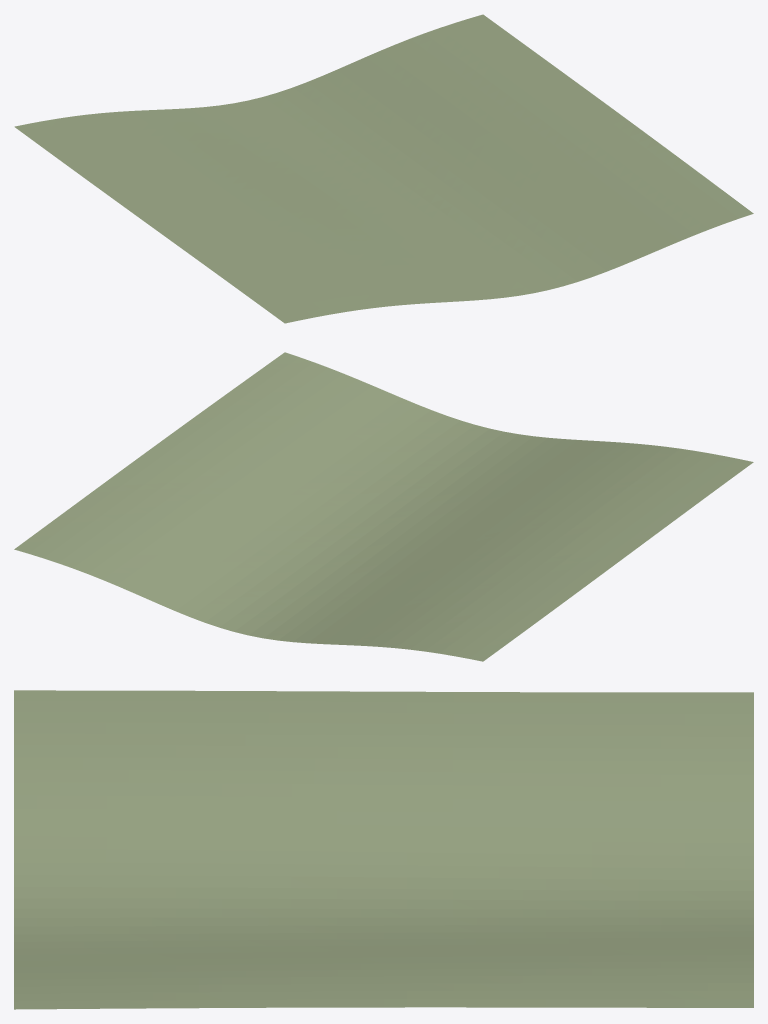
File: desert-13-7.glb
3 views of the same model, one above another, from view 1: azimuth 30°, elevation 25°; view 2: azimuth 150°, elevation 25°; view 3: azimuth 270°, elevation 25° (orthographic). The views are drawn at different scales.
Parts seen in each view (by area): view 1: desert-13-7; view 2: desert-13-7; view 3: desert-13-7.
Boxes of the visible parts, x1,y1,x2,y2 form: desert-13-7: (14,14,753,323); desert-13-7: (14,352,753,661); desert-13-7: (14,690,753,1009).
Bounding box in the file's own units: 512 × 33.75 × 512.
